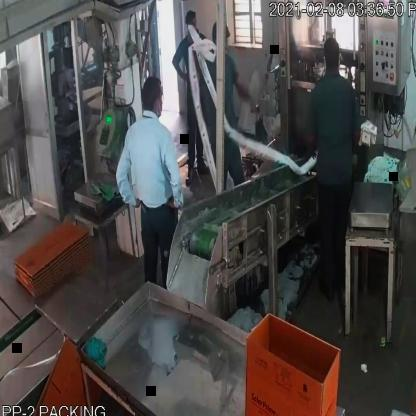no_glove: (161, 133, 188, 220), (116, 139, 141, 220)
